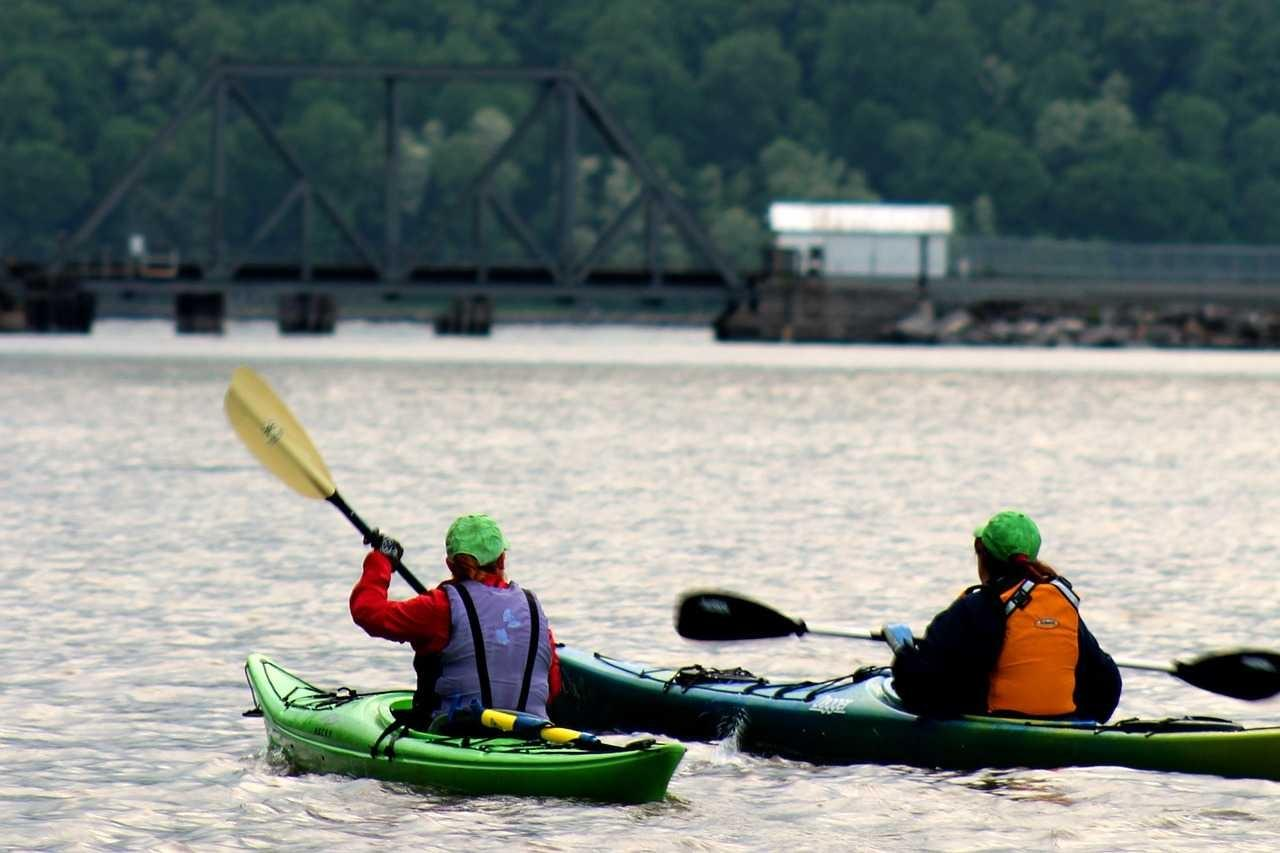kayak: (552, 640, 1277, 777), (243, 651, 686, 806), (433, 291, 494, 337)
